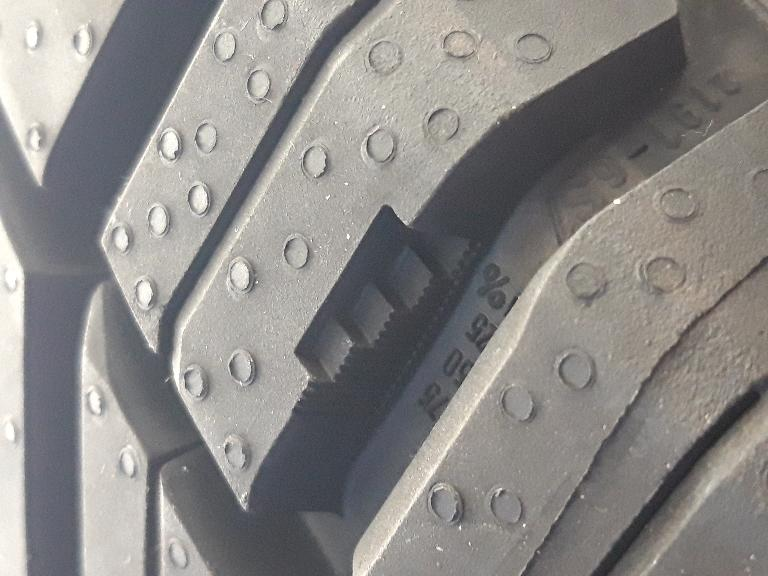temoin:100: (281, 200, 499, 437)
